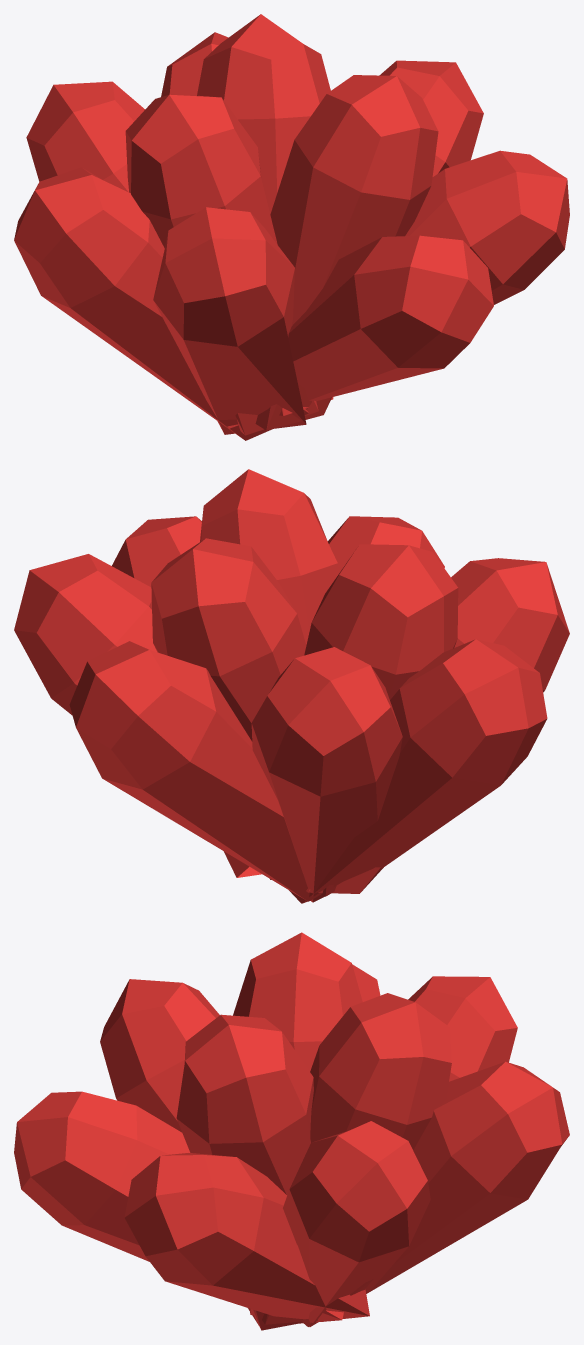
The model's file is Coral_028.glb.
3 renders of one model, top to bottom at view 1: azimuth 30°, elevation 25°; view 2: azimuth 150°, elevation 25°; view 3: azimuth 270°, elevation 25°, orthographic. The views are drawn at different scales.
Visible parts, largest first — view 1: Coral_028; view 2: Coral_028; view 3: Coral_028.
Boxes of the visible parts, box(x1,y1,x2,y2) form: Coral_028: box(14, 14, 569, 440); Coral_028: box(14, 469, 569, 903); Coral_028: box(14, 932, 569, 1330).
Bounding box in the file's own units: 0.353 × 0.251 × 0.3644.
Materials: 1 (1 with a texture image).
